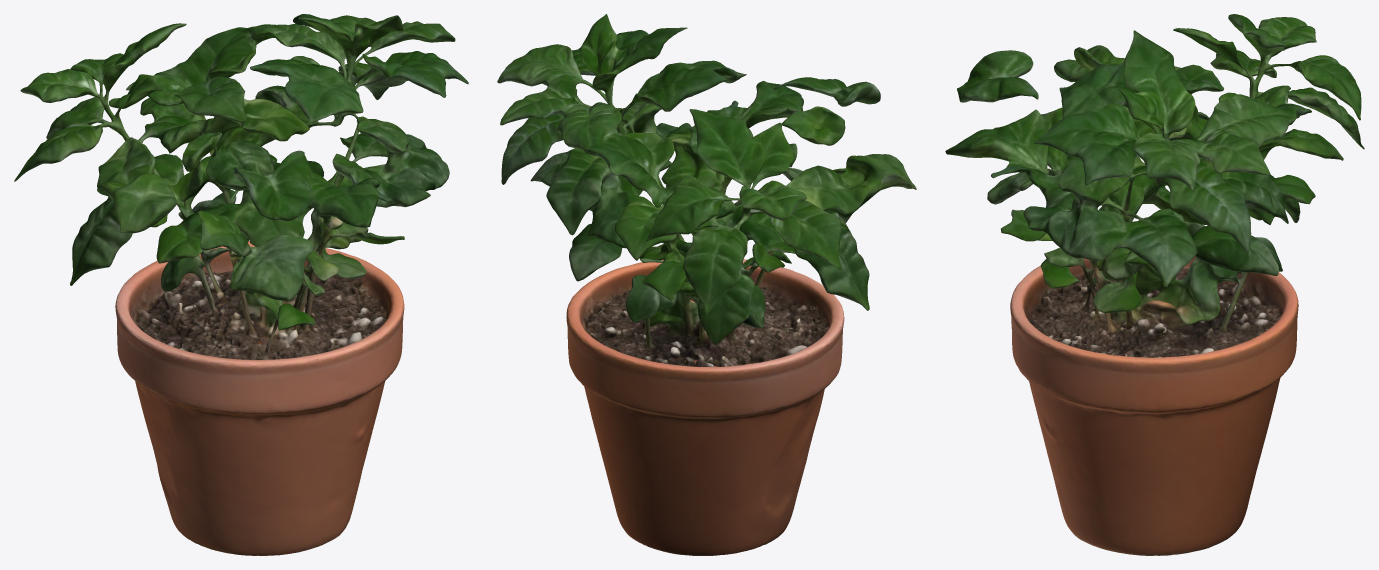
File: gen_ad9dea8afed8.glb
3 renders of one model, left to right at view 1: azimuth 30°, elevation 25°; view 2: azimuth 150°, elevation 25°; view 3: azimuth 270°, elevation 25°, orthographic. The views are drawn at different scales.
Visible parts, largest first — view 1: world; view 2: world; view 3: world.
Part boxes in pixels (x1,y1,x2,y2): world: (14, 14, 468, 555); world: (497, 14, 916, 555); world: (945, 14, 1364, 555).
Bounding box in the file's own units: 0.8078 × 0.9854 × 0.745.
1 material, 1 textured.
